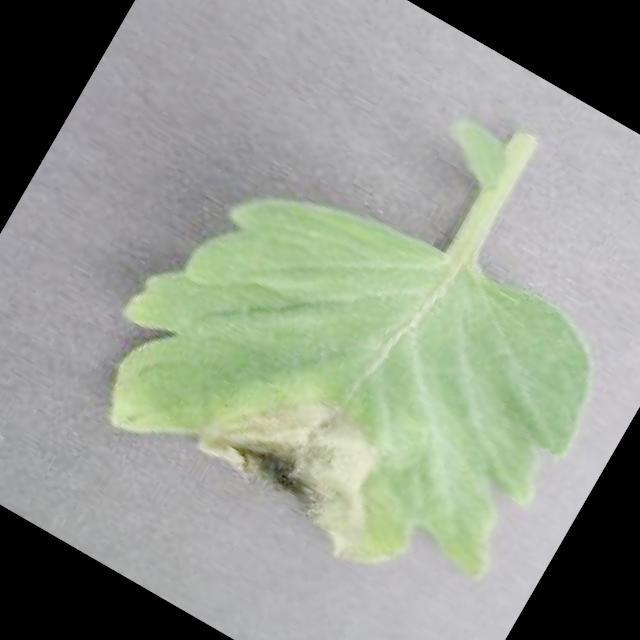Tomato late blight leaf: (57, 113, 631, 639)
